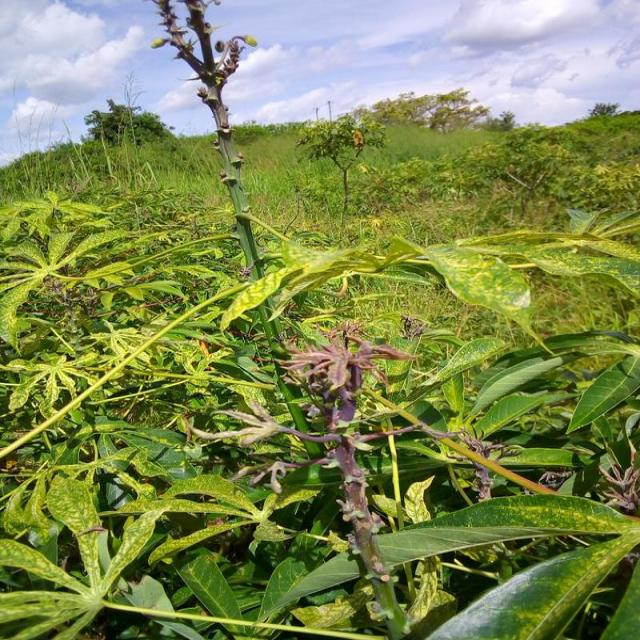cassava leaf: (423, 242, 531, 317)
